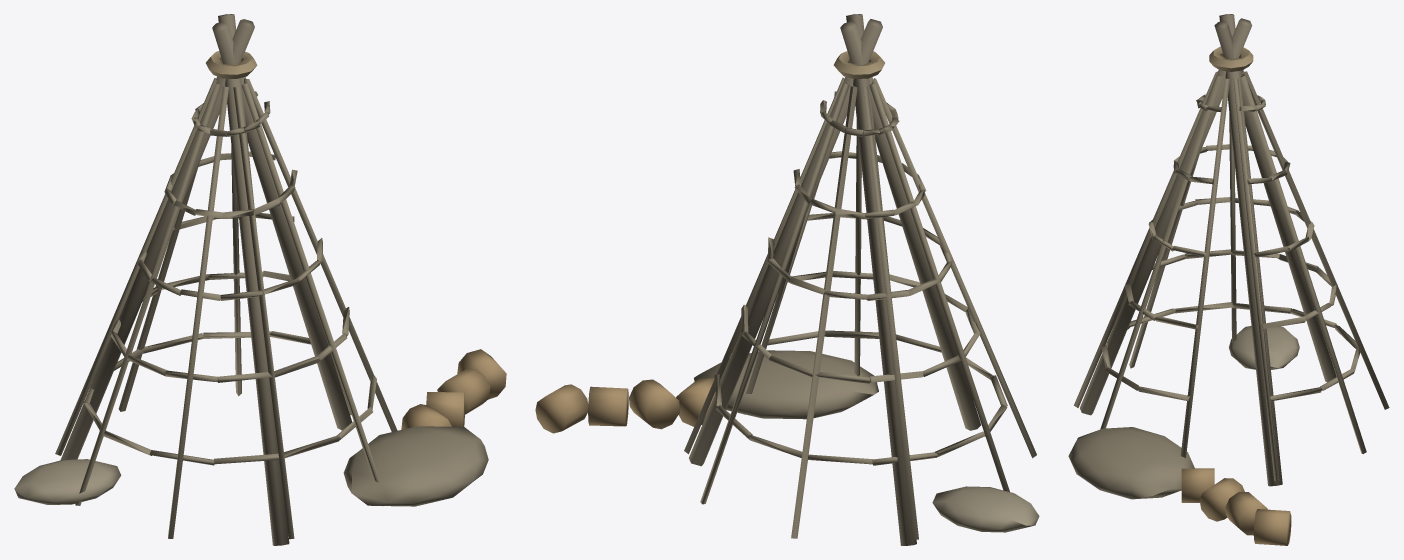
Rendered from drying_tripod_b_lod1.glb.
The picture shows the model from 3 angles, left to right: view 1: azimuth 30°, elevation 25°; view 2: azimuth 150°, elevation 25°; view 3: azimuth 270°, elevation 25°; orthographic projection. The views are drawn at different scales.
Parts seen in each view (by area): view 1: Surface.001; view 2: Surface.001; view 3: Surface.001.
Part boxes in pixels (x1=…): Surface.001: x1=14, y1=14, x2=506, y2=545; Surface.001: x1=535, y1=14, x2=1039, y2=545; Surface.001: x1=1068, y1=14, x2=1389, y2=545.
Bounding box in the file's own units: 3.02 × 2.73 × 1.94.
